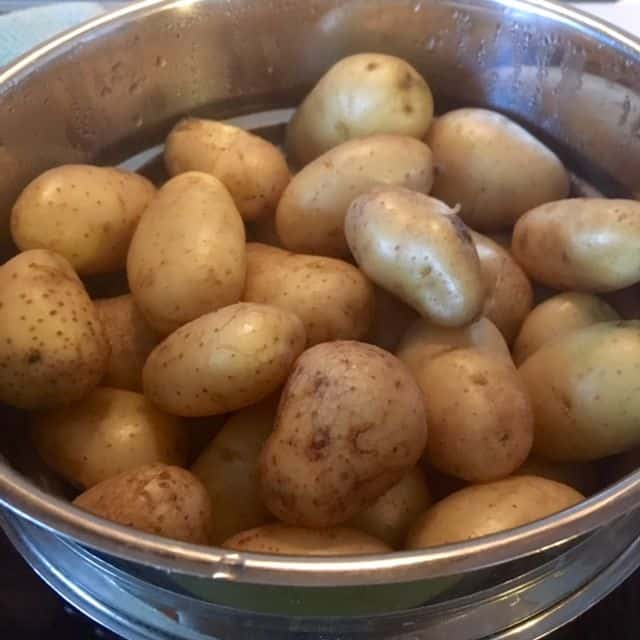boiled potatoes: (273, 323, 404, 507), (352, 190, 503, 328), (139, 160, 258, 330), (397, 330, 521, 475), (424, 106, 555, 235), (516, 323, 640, 459), (136, 303, 295, 403), (277, 133, 429, 236), (20, 383, 173, 481), (1, 264, 107, 398), (408, 470, 587, 549), (25, 156, 154, 260), (514, 202, 640, 287), (105, 467, 206, 533)
